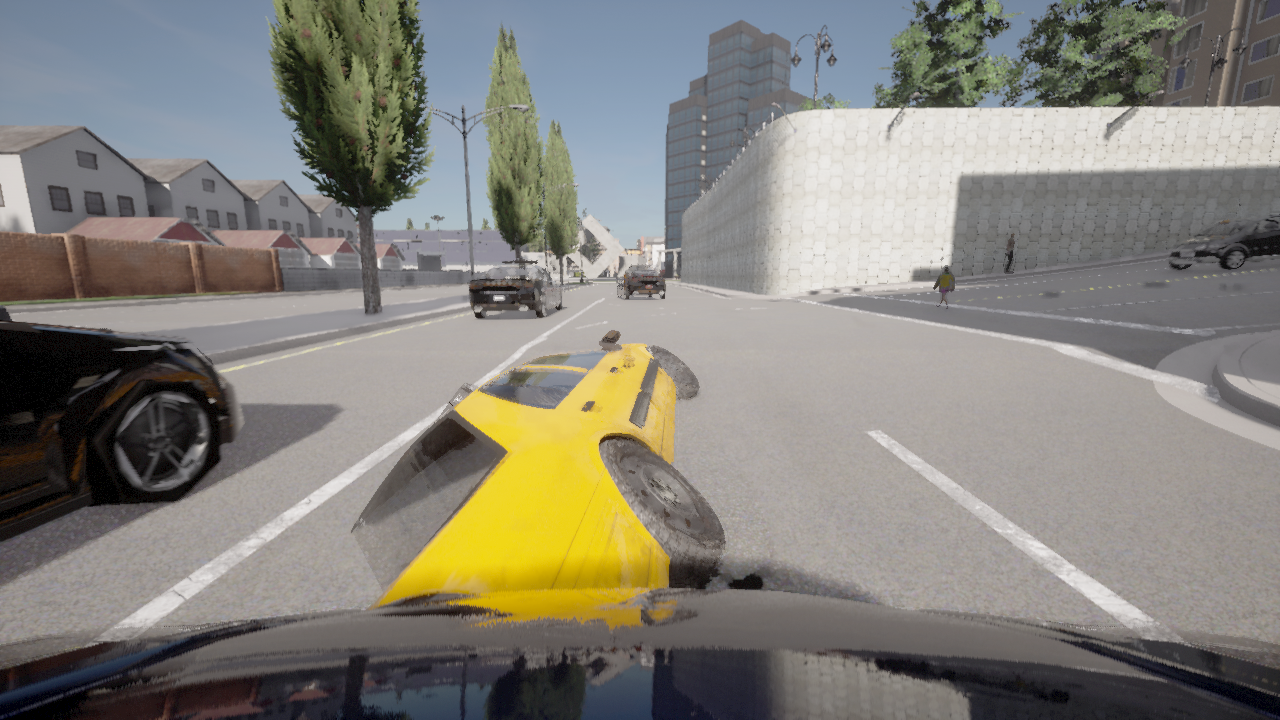cyclist: (0, 588, 1279, 719), (350, 329, 724, 610), (1168, 214, 1279, 269), (469, 259, 562, 318), (616, 265, 666, 299)
pedestrian: (934, 266, 954, 308)
